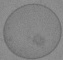small: (33, 34, 46, 46)
